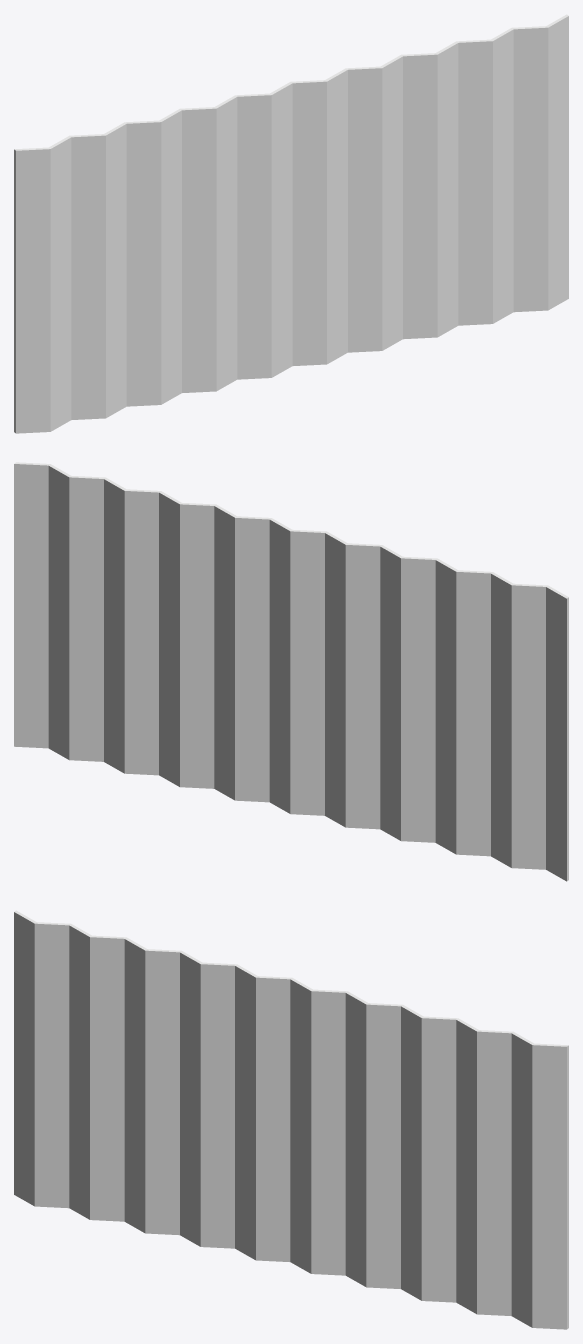
The model's file is Prop_Metal_Sheet_04.glb.
3 views of the same model, one above another, from view 1: azimuth 30°, elevation 25°; view 2: azimuth 150°, elevation 25°; view 3: azimuth 330°, elevation 25° (orthographic).
Parts seen in each view (by area): view 1: Prop_Metal_Sheet_04; view 2: Prop_Metal_Sheet_04; view 3: Prop_Metal_Sheet_04.
Part boxes in pixels (x1=…): Prop_Metal_Sheet_04: x1=14, y1=14, x2=568, y2=433; Prop_Metal_Sheet_04: x1=14, y1=462, x2=568, y2=881; Prop_Metal_Sheet_04: x1=14, y1=910, x2=568, y2=1329.
Bounding box in the file's own units: 4.5 × 2.2 × 0.1272.
1 material, 1 textured.
